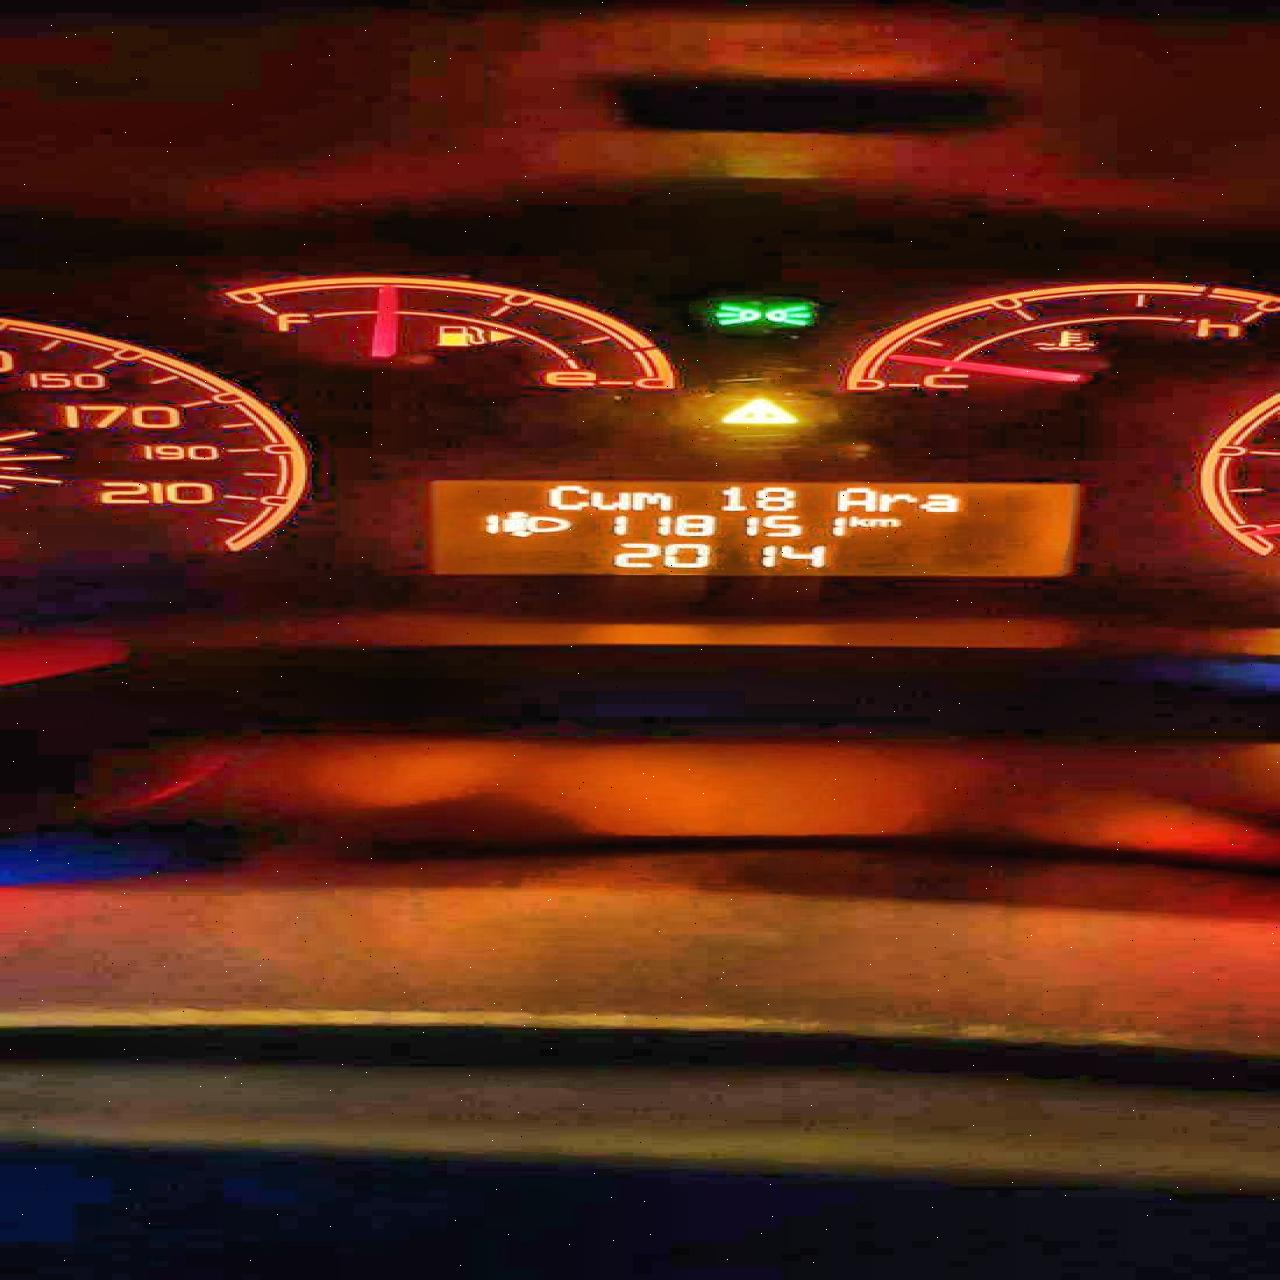0: (659, 542, 715, 568)
1: (713, 485, 749, 512), (749, 543, 777, 567), (602, 513, 631, 536), (647, 513, 670, 536), (477, 512, 501, 535), (822, 516, 845, 538), (737, 513, 756, 538)
2: (610, 542, 659, 570)
4: (777, 543, 831, 567)
5: (760, 513, 803, 538)
8: (751, 485, 798, 511), (673, 513, 716, 537)
X: (543, 483, 588, 511), (831, 485, 874, 512), (628, 490, 673, 512), (917, 492, 961, 513), (588, 490, 628, 511), (877, 492, 917, 513), (865, 517, 900, 527), (845, 515, 866, 527)
odometer: (403, 482, 1089, 591)
